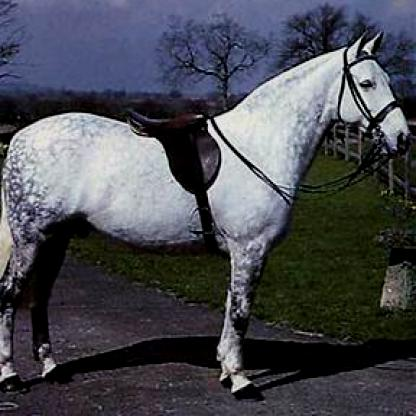horse: (1, 28, 416, 402)
